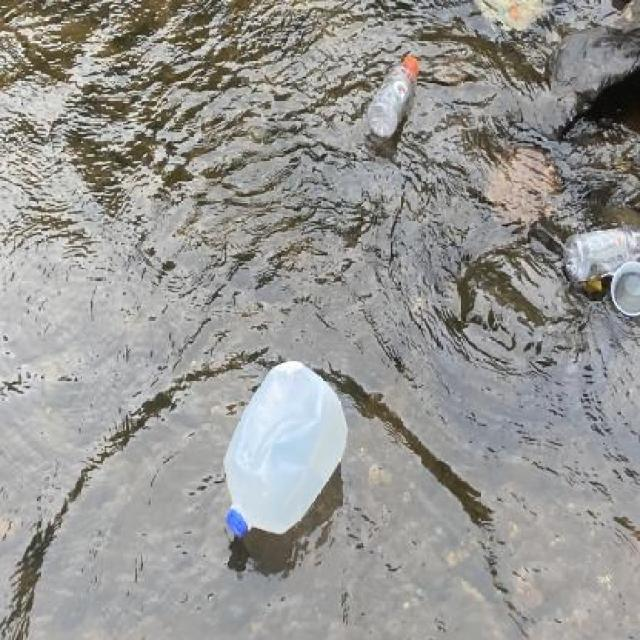Plastic: (216, 350, 353, 553), (561, 223, 640, 317), (364, 52, 422, 148)
